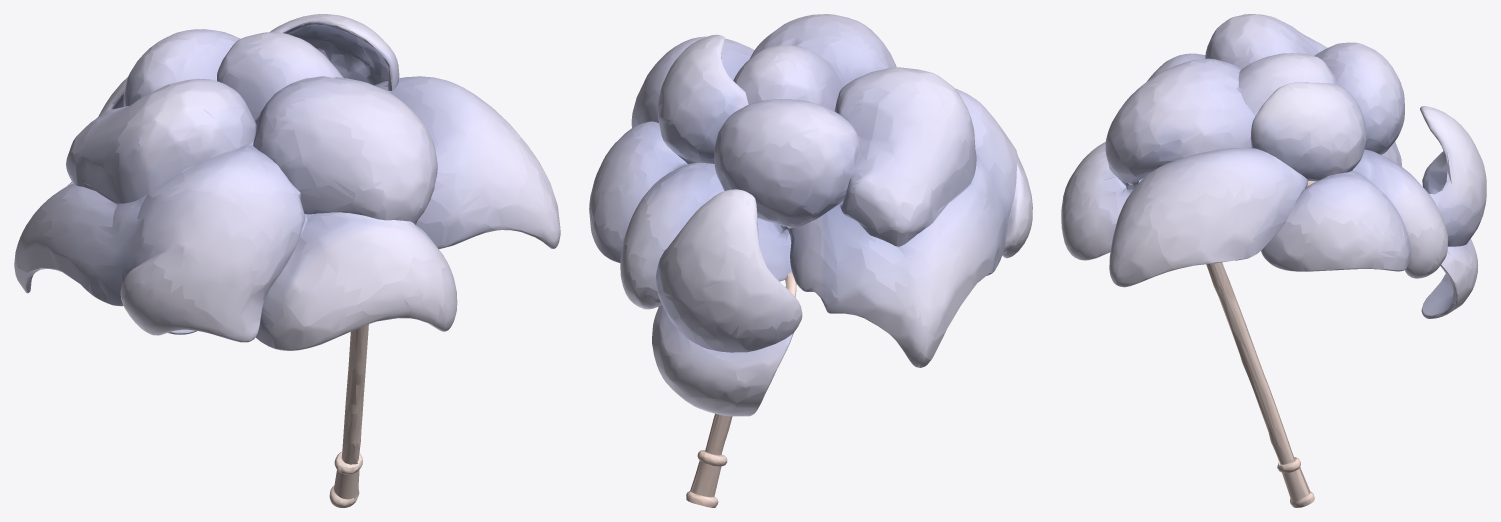
File: aya-weapon.fbx
The picture shows the model from 3 angles, left to right: view 1: azimuth 30°, elevation 25°; view 2: azimuth 150°, elevation 25°; view 3: azimuth 270°, elevation 25°; orthographic projection. The views are drawn at different scales.
Visible parts, largest first — view 1: output_unwrapped; view 2: output_unwrapped; view 3: output_unwrapped.
Part boxes in pixels (x1=…): output_unwrapped: x1=14, y1=14, x2=560, y2=507; output_unwrapped: x1=589, y1=14, x2=1032, y2=507; output_unwrapped: x1=1061, y1=14, x2=1486, y2=507.
Bounding box in the file's own units: 168 × 190 × 176.
1 material, 1 textured.
